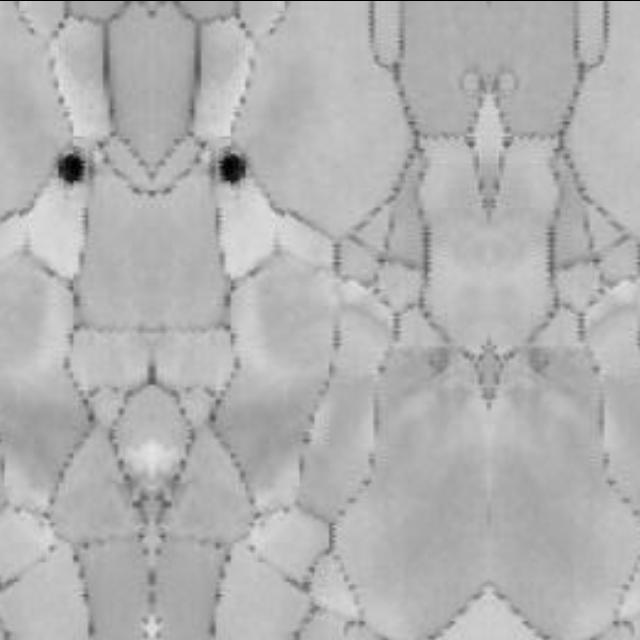good_void: (215, 148, 250, 187), (52, 148, 87, 187)
